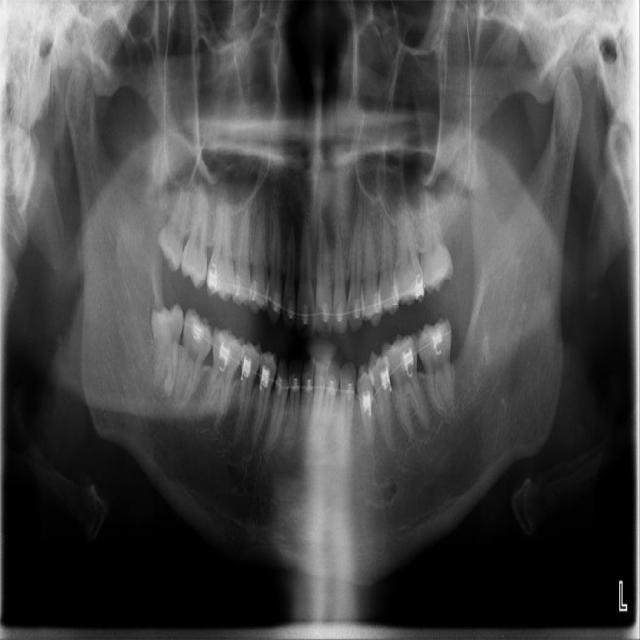3M ESPE Implant: (152, 175, 195, 272)
73: (592, 548, 598, 576)
BioHorizons Implant: (418, 187, 454, 294)
Blue Sky Bio Implant: (415, 315, 455, 415)
Caries: (179, 184, 210, 288)
Implant: (171, 303, 218, 412)
Keystone Dental Implant: (149, 302, 185, 399)
